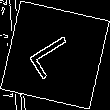L_NE: (25, 28, 85, 82)
